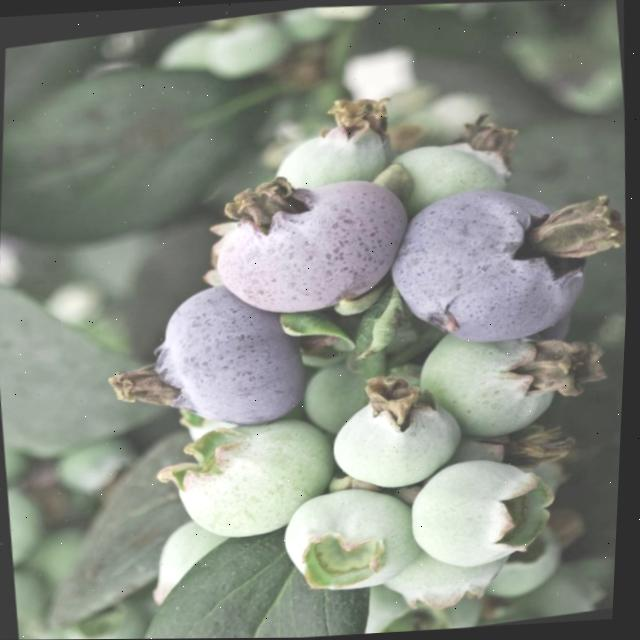RipeBlueBerry: (370, 164, 616, 362), (124, 269, 323, 443)
Semi-RipeBlueBerry: (195, 149, 427, 328)
UnripeBlueBerry: (151, 403, 352, 554)
